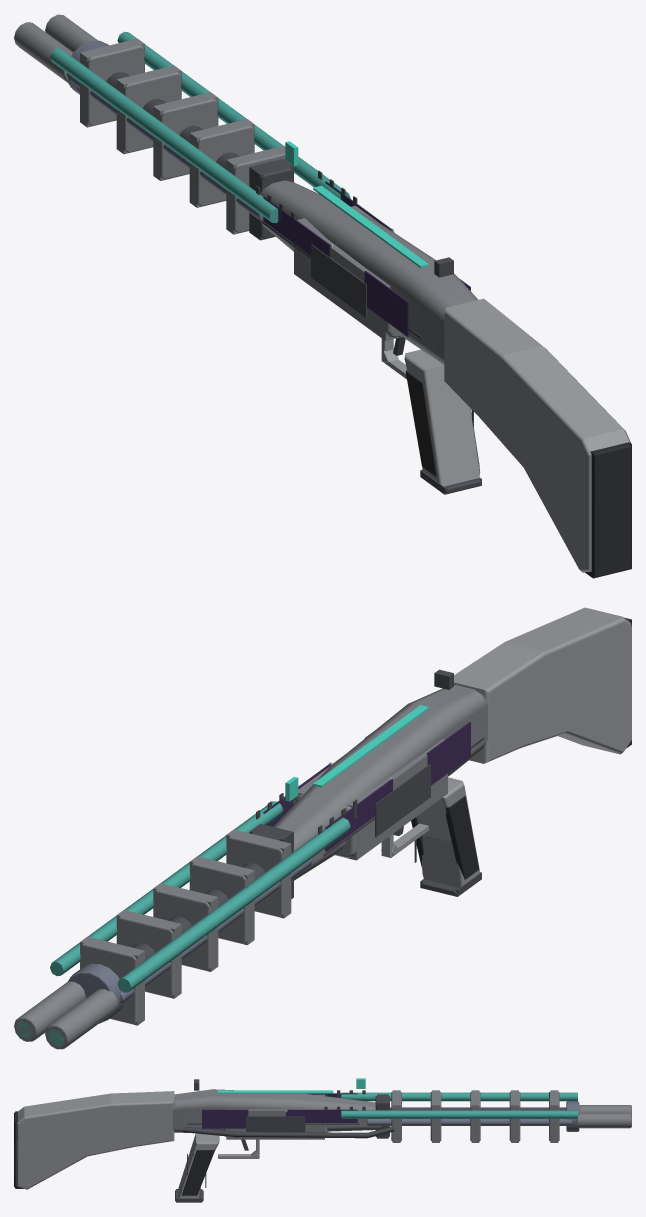
Rendered from qsuper.glb.
3 views of the same model, one above another, from view 1: azimuth 30°, elevation 25°; view 2: azimuth 150°, elevation 25°; view 3: azimuth 270°, elevation 25° (orthographic). The views are drawn at different scales.
Parts seen in each view (by area): view 1: L0, L1; view 2: L0, L1; view 3: L0, L1.
Part boxes in pixels (x1=…): L0: x1=14, y1=14, x2=631, y2=577; L1: x1=18, y1=14, x2=631, y2=578; L0: x1=14, y1=607, x2=631, y2=1049; L1: x1=17, y1=618, x2=631, y2=1048; L0: x1=14, y1=1078, x2=631, y2=1201; L1: x1=15, y1=1090, x2=630, y2=1202.
Bounding box in the file's own units: 0.0775 × 0.1989 × 0.9398.
